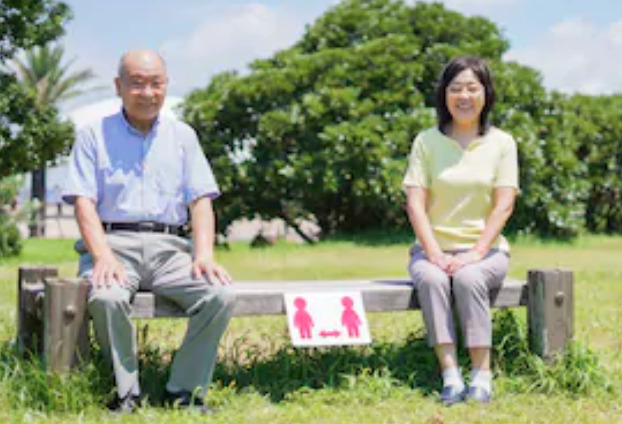Caution: (70, 46, 519, 408)
